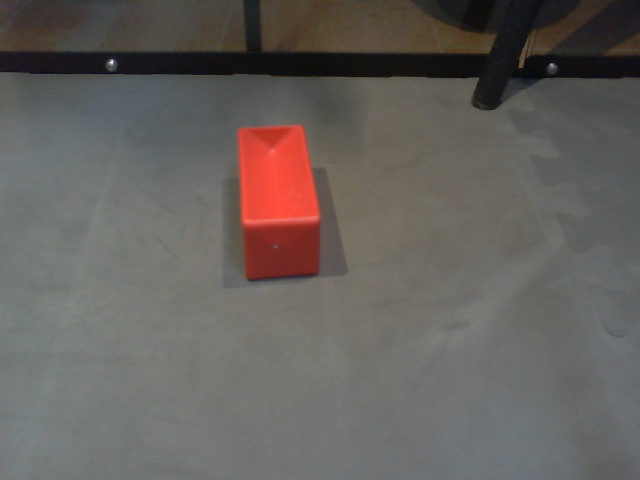RedSample: (234, 123, 323, 286)
